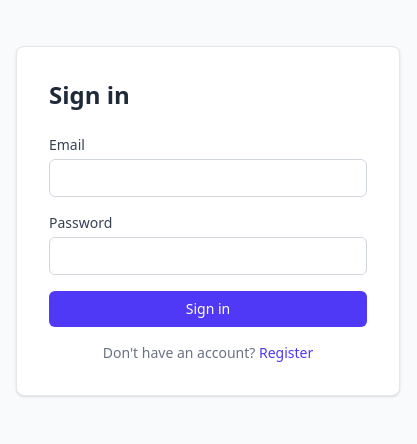
Scenario: LoginPage › shows a validation error when submitted with empty fields
This screenshot has width=417, height=444.
What coordinates should you click on to do the following:
click the button "Sign in"
I would click on:
 (208, 309)
Its box is [49,291,367,327].
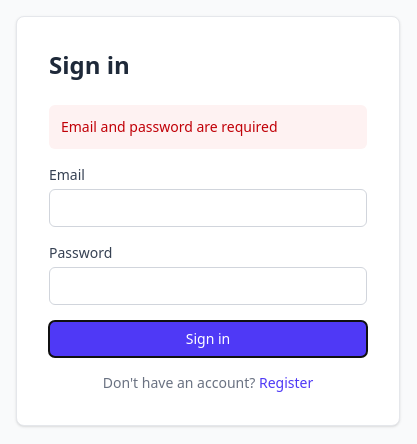
Result: the message "Email and password are required" is shown at [49,105,367,149]
